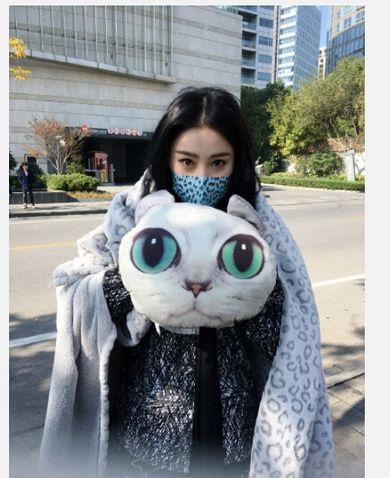OK: (170, 147, 235, 212)
